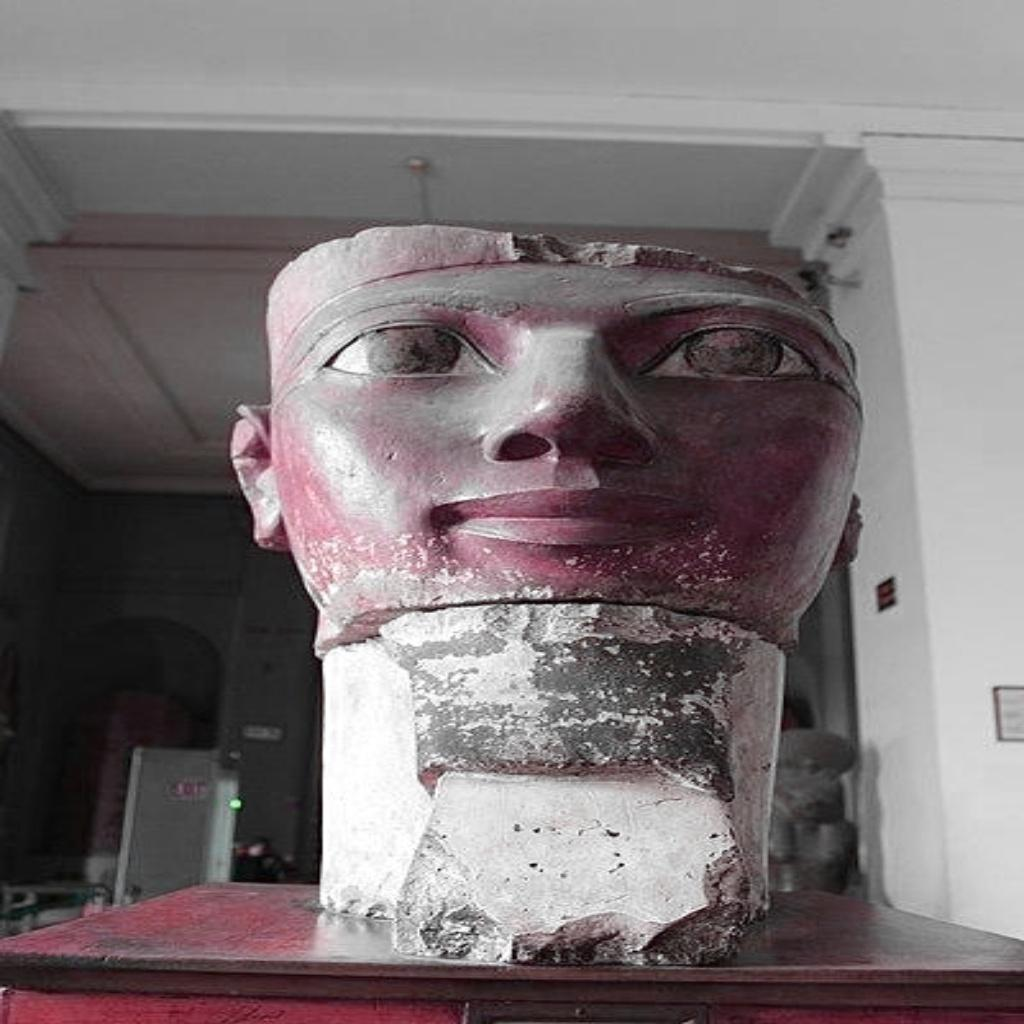Hatshepsut face: (228, 220, 868, 972)
